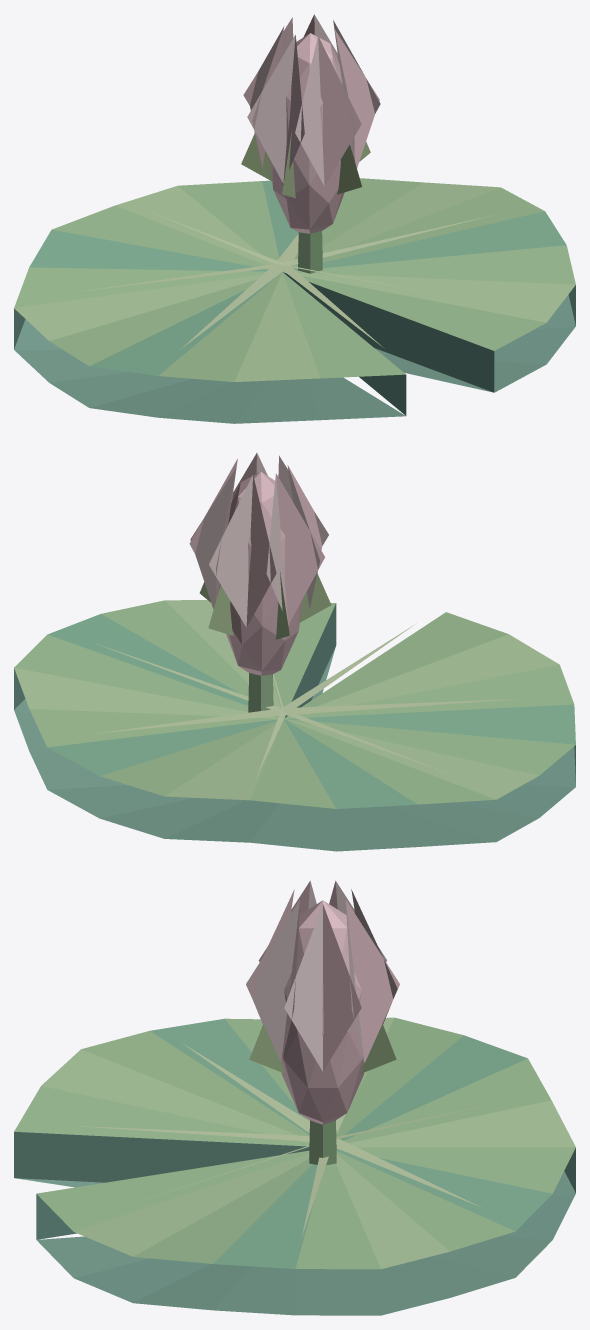
The model's file is water_lily_bud.glb.
3 views of the same model, one above another, from view 1: azimuth 30°, elevation 25°; view 2: azimuth 150°, elevation 25°; view 3: azimuth 270°, elevation 25° (orthographic). The views are drawn at different scales.
Visible parts, largest first — view 1: Floating_pad_leaf, Floating_pad_edge, Closed_bud_outer_petals, Closed_bud_inner_petals, Floating_pad_veins, Closed_bud_sepal, Closed_bud_stem; view 2: Floating_pad_leaf, Floating_pad_edge, Closed_bud_outer_petals, Closed_bud_inner_petals, Floating_pad_veins, Closed_bud_sepal, Closed_bud_stem; view 3: Floating_pad_leaf, Floating_pad_edge, Closed_bud_outer_petals, Closed_bud_inner_petals, Floating_pad_veins, Closed_bud_sepal, Closed_bud_stem.
Part boxes in pixels (<box>): Floating_pad_leaf: <box>14,178,575,381</box>; Floating_pad_edge: <box>14,272,575,423</box>; Closed_bud_outer_petals: <box>243,14,380,186</box>; Closed_bud_inner_petals: <box>269,33,351,233</box>; Floating_pad_veins: <box>64,211,495,349</box>; Closed_bud_sepal: <box>241,130,370,198</box>; Closed_bud_stem: <box>298,231,322,273</box>; Floating_pad_leaf: <box>14,600,575,808</box>; Floating_pad_edge: <box>14,603,575,851</box>; Closed_bud_outer_petals: <box>189,453,328,627</box>; Closed_bud_inner_petals: <box>219,472,302,675</box>; Floating_pad_veins: <box>90,623,520,775</box>; Closed_bud_sepal: <box>199,572,331,639</box>; Closed_bud_stem: <box>248,673,273,712</box>; Floating_pad_leaf: <box>14,1017,575,1269</box>; Floating_pad_edge: <box>14,1131,575,1315</box>; Closed_bud_outer_petals: <box>246,880,399,1071</box>; Closed_bud_inner_petals: <box>281,900,364,1124</box>; Floating_pad_veins: <box>70,1043,503,1238</box>; Closed_bud_sepal: <box>249,1024,396,1073</box>; Closed_bud_stem: <box>309,1120,336,1165</box>.
Bounding box in the file's own units: 1.17 × 0.704 × 1.04.
